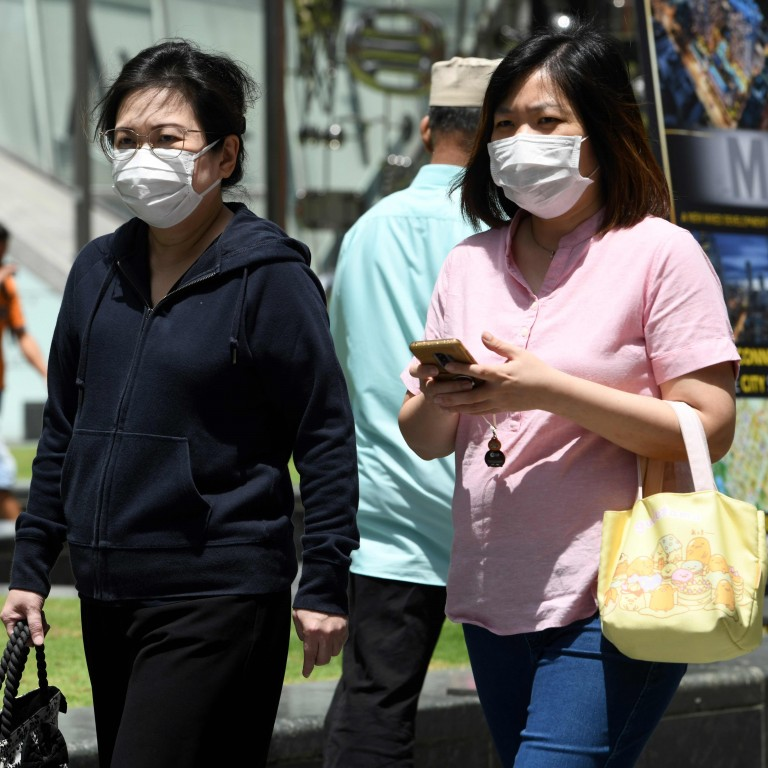surgical: (483, 135, 603, 220), (99, 145, 215, 232)
